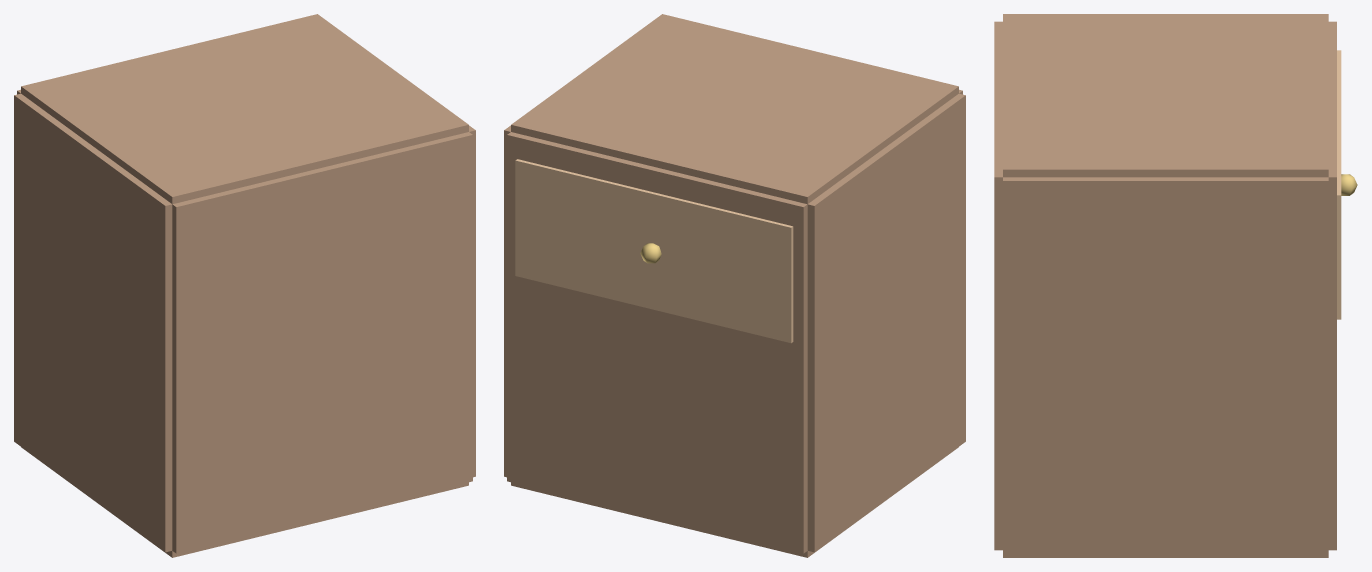
File: nightstand.glb
3 renders of one model, left to right at view 1: azimuth 30°, elevation 25°; view 2: azimuth 150°, elevation 25°; view 3: azimuth 270°, elevation 25°, orthographic. The views are drawn at different scales.
Parts seen in each view (by area): view 1: nightstand; view 2: nightstand; view 3: nightstand.
Part boxes in pixels (<box>): nightstand: <box>14,14,475,557</box>; nightstand: <box>504,14,965,557</box>; nightstand: <box>994,14,1357,557</box>.
Size of the model in its own units: 0.45 by 0.5 by 0.424.
